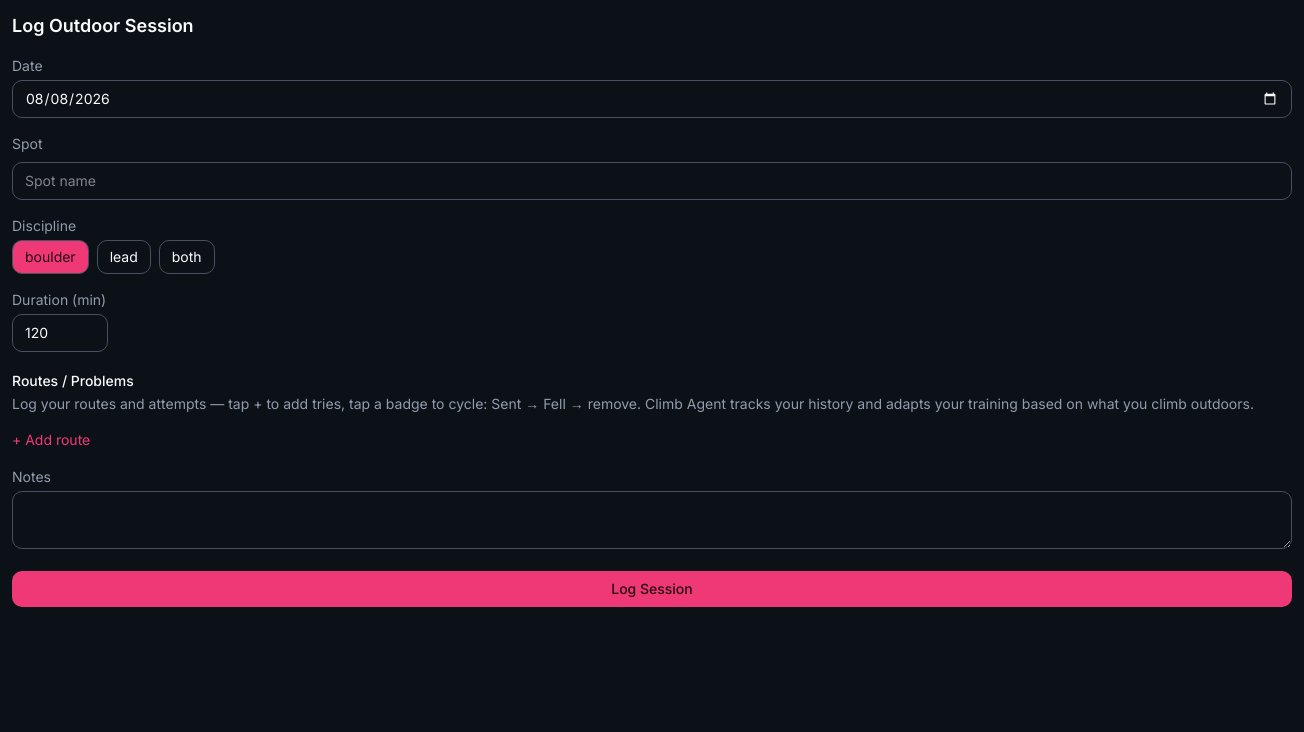
Scenario: OutdoorLogForm — double submit › does not submit at all without a spot name
The image size is (1304, 732).
Step 1. Click the button "Log Session" → (652, 589), box top-left (12, 571), bottom-right (1292, 607)
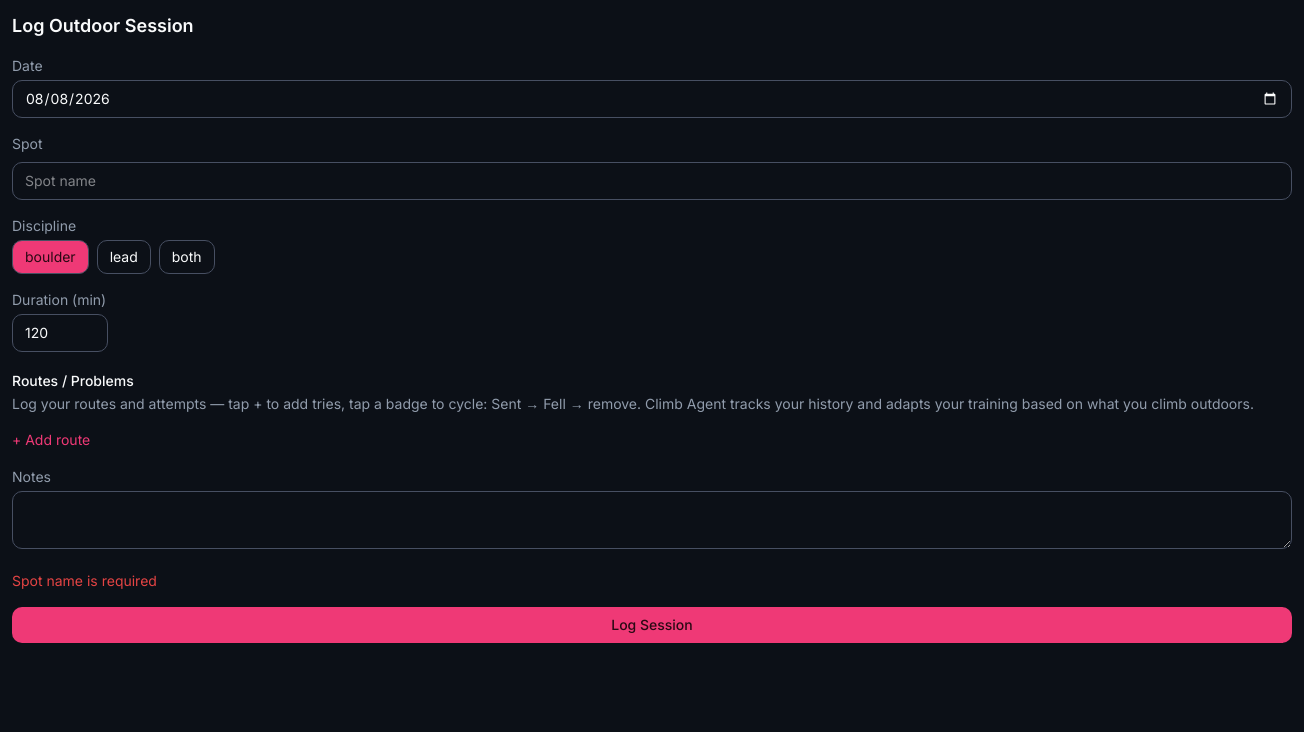
Now the text "Spot name is required" is shown, box top-left (12, 572), bottom-right (157, 589)
